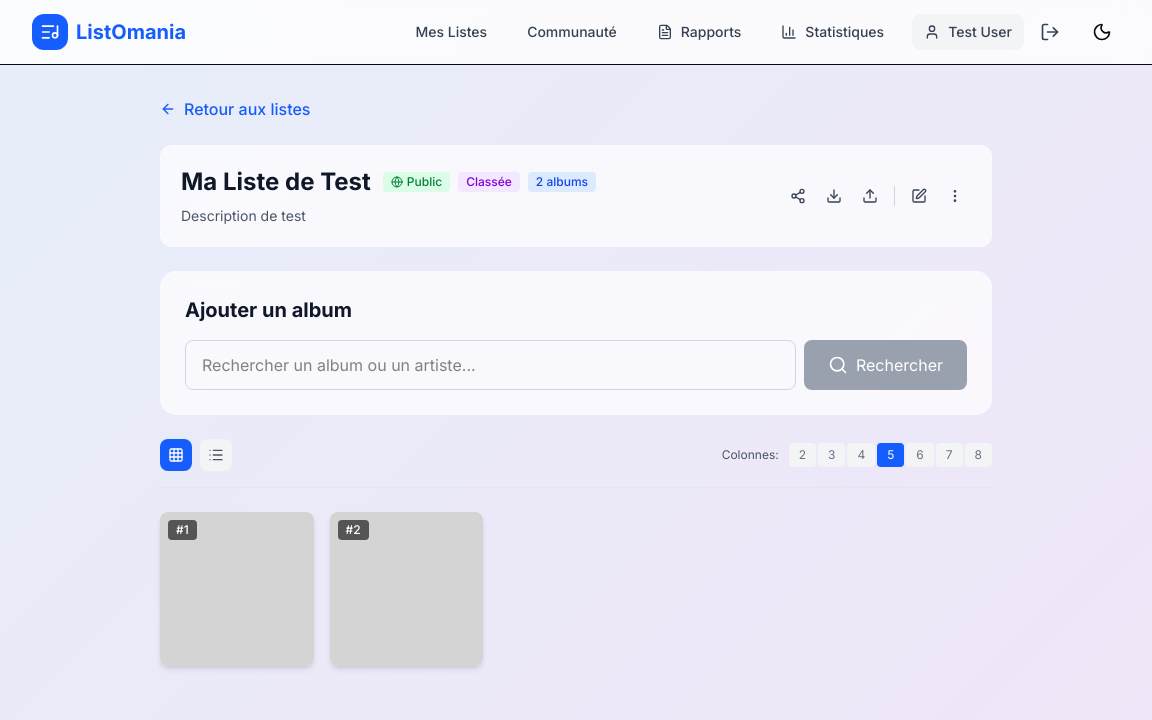
Test: Export Image Feature › ouvre la modal d'export d'image au clic
This screenshot has width=1152, height=720.
expect the heading "Ma Liste de Test" is shown: met, box left=181, top=166, right=371, bottom=198
Click the button titled "Exporter". click: [834, 196]
box: left=818, top=180, right=850, bottom=212
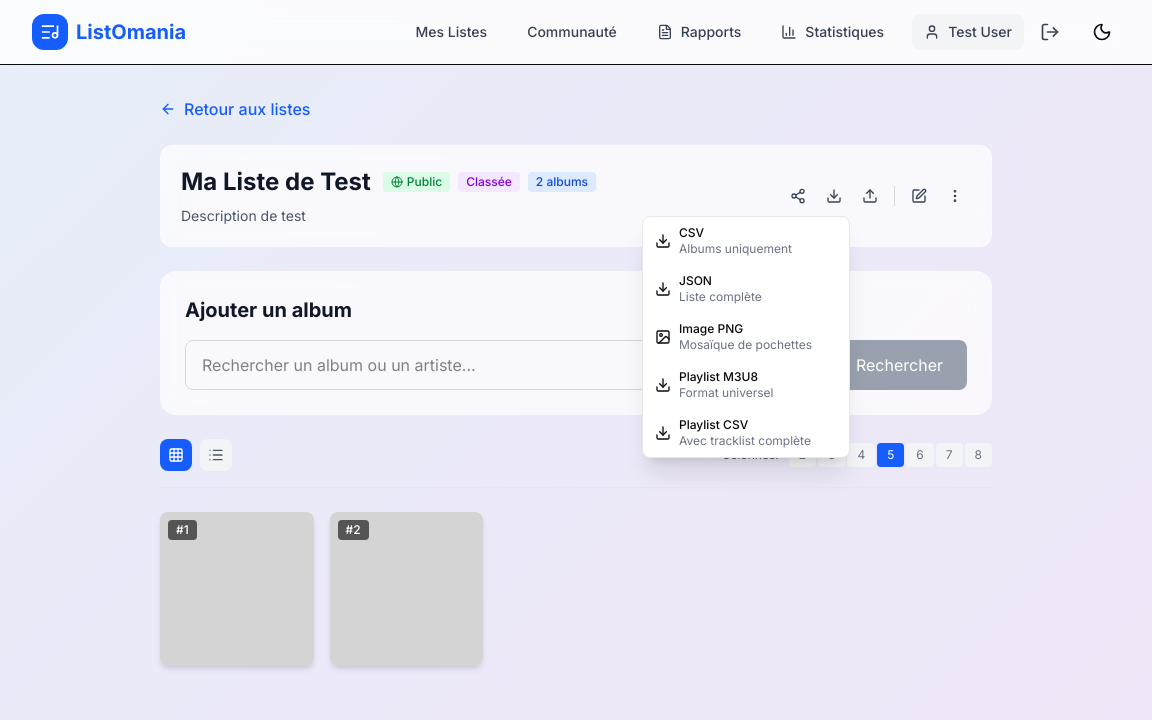
Click the text "Image PNG". click: [711, 328]
box: left=679, top=321, right=743, bottom=336
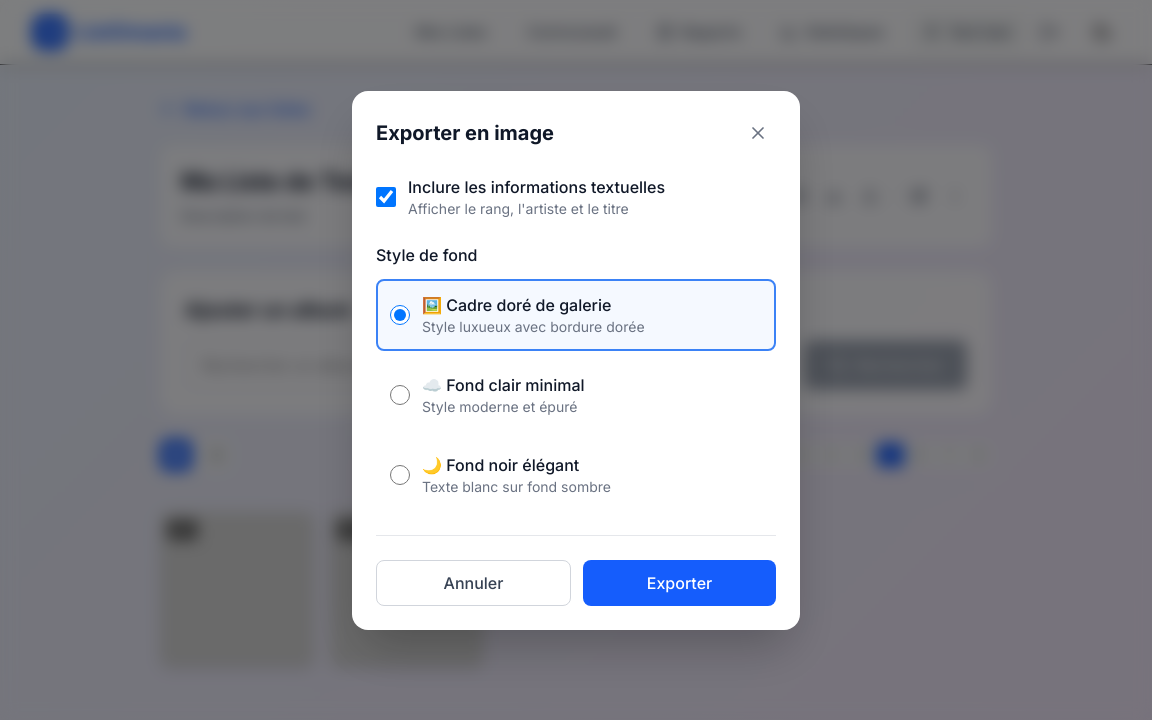
expect the heading "Exporter en image" is shown: met, box left=376, top=118, right=554, bottom=146
